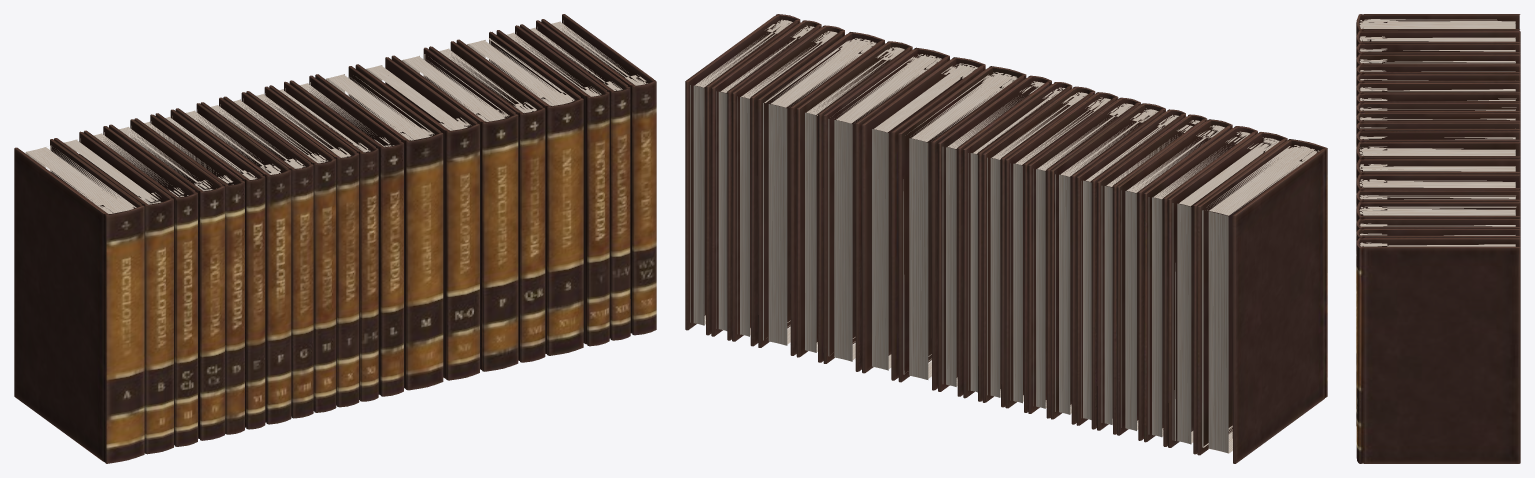
File: book_encyclopedia_set_01.glb
The picture shows the model from 3 angles, left to right: view 1: azimuth 30°, elevation 25°; view 2: azimuth 150°, elevation 25°; view 3: azimuth 270°, elevation 25°; orthographic projection. The views are drawn at different scales.
Visible parts, largest first — view 1: book_encyclopedia_set_01_book01, book_encyclopedia_set_01_book13, book_encyclopedia_set_01_book15, book_encyclopedia_set_01_book17, book_encyclopedia_set_01_book14, book_encyclopedia_set_01_book02, book_encyclopedia_set_01_book16, book_encyclopedia_set_01_book04, book_encyclopedia_set_01_book20, book_encyclopedia_set_01_book18, book_encyclopedia_set_01_book07, book_encyclopedia_set_01_book12 (+8 smaller); view 2: book_encyclopedia_set_01_book01, book_encyclopedia_set_01_book13, book_encyclopedia_set_01_book17, book_encyclopedia_set_01_book15, book_encyclopedia_set_01_book14, book_encyclopedia_set_01_book02, book_encyclopedia_set_01_book16, book_encyclopedia_set_01_book04, book_encyclopedia_set_01_book20, book_encyclopedia_set_01_book07, book_encyclopedia_set_01_book18, book_encyclopedia_set_01_book12 (+8 smaller); view 3: book_encyclopedia_set_01_book20, book_encyclopedia_set_01_book17, book_encyclopedia_set_01_book13, book_encyclopedia_set_01_book01, book_encyclopedia_set_01_book15, book_encyclopedia_set_01_book14, book_encyclopedia_set_01_book02, book_encyclopedia_set_01_book16, book_encyclopedia_set_01_book03, book_encyclopedia_set_01_book12, book_encyclopedia_set_01_book04, book_encyclopedia_set_01_book07 (+8 smaller).
Part boxes in pixels (x1,y1,x2,y2): book_encyclopedia_set_01_book01: (14,139,144,463); book_encyclopedia_set_01_book13: (315,66,443,390); book_encyclopedia_set_01_book15: (391,47,518,371); book_encyclopedia_set_01_book17: (456,31,583,355); book_encyclopedia_set_01_book14: (355,57,479,380); book_encyclopedia_set_01_book02: (54,131,173,454); book_encyclopedia_set_01_book16: (429,41,545,362); book_encyclopedia_set_01_book04: (109,119,224,440); book_encyclopedia_set_01_book20: (541,14,656,335); book_encyclopedia_set_01_book18: (496,25,609,346); book_encyclopedia_set_01_book07: (175,103,291,424); book_encyclopedia_set_01_book12: (289,75,403,396); book_encyclopedia_set_01_book01: (1197,139,1327,463); book_encyclopedia_set_01_book13: (898,66,1026,390); book_encyclopedia_set_01_book17: (757,32,884,355); book_encyclopedia_set_01_book15: (823,47,949,371); book_encyclopedia_set_01_book14: (861,57,985,380); book_encyclopedia_set_01_book02: (1168,132,1287,454); book_encyclopedia_set_01_book16: (796,41,912,362); book_encyclopedia_set_01_book04: (1117,119,1232,440); book_encyclopedia_set_01_book20: (685,14,800,335); book_encyclopedia_set_01_book07: (1050,103,1165,424); book_encyclopedia_set_01_book18: (732,25,844,346); book_encyclopedia_set_01_book12: (938,75,1051,396); book_encyclopedia_set_01_book20: (1356,238,1520,463); book_encyclopedia_set_01_book17: (1356,202,1520,425); book_encyclopedia_set_01_book13: (1356,142,1520,189); book_encyclopedia_set_01_book01: (1356,14,1520,35); book_encyclopedia_set_01_book15: (1356,174,1520,194); book_encyclopedia_set_01_book14: (1356,159,1520,181); book_encyclopedia_set_01_book02: (1356,30,1520,47); book_encyclopedia_set_01_book16: (1356,190,1520,219); book_encyclopedia_set_01_book03: (1356,43,1520,58); book_encyclopedia_set_01_book12: (1356,131,1520,190); book_encyclopedia_set_01_book04: (1356,54,1520,77); book_encyclopedia_set_01_book07: (1356,82,1520,97).
Bounding box in the file's own units: 0.5513 × 0.2374 × 0.1636.
2 materials, 2 textured.
